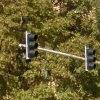Traffic light: (10, 22, 48, 67)
